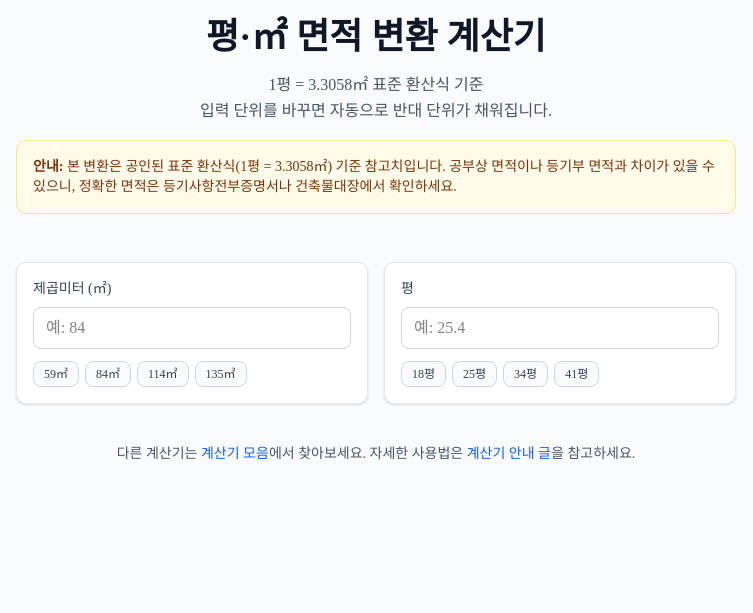
Test: /tools/area-converter 페이지 › 평 입력 → ㎡가 자동 계산 (25 → 83)
This screenshot has width=753, height=613.
Type "25" into the number field named "평 입력".
click(560, 328); type("25")  # box [401, 307, 719, 349]
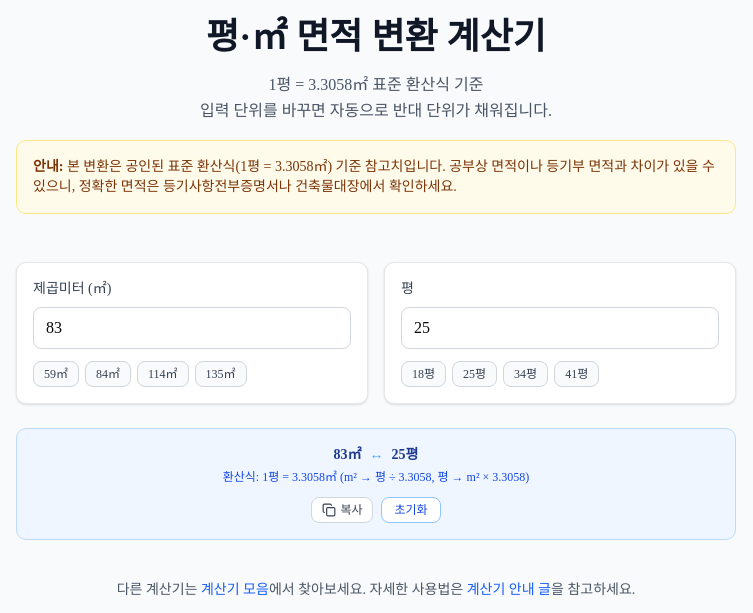
Expected: the number field named "제곱미터 입력" holds "83", [33, 307, 351, 349]
